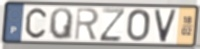C: (25, 7, 48, 40)
O: (125, 8, 151, 43)
Q: (48, 7, 74, 41)
R: (73, 7, 100, 41)
V: (154, 8, 179, 44)
Z: (98, 7, 127, 43)
